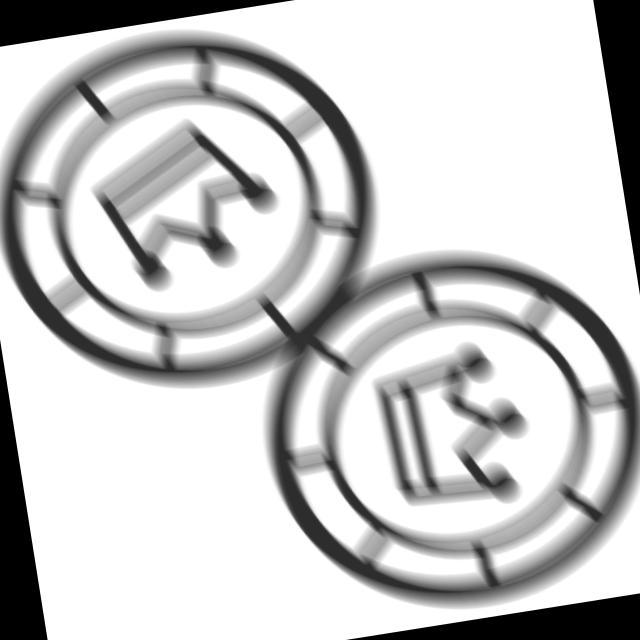coin: (225, 208, 640, 640), (1, 1, 411, 425)
